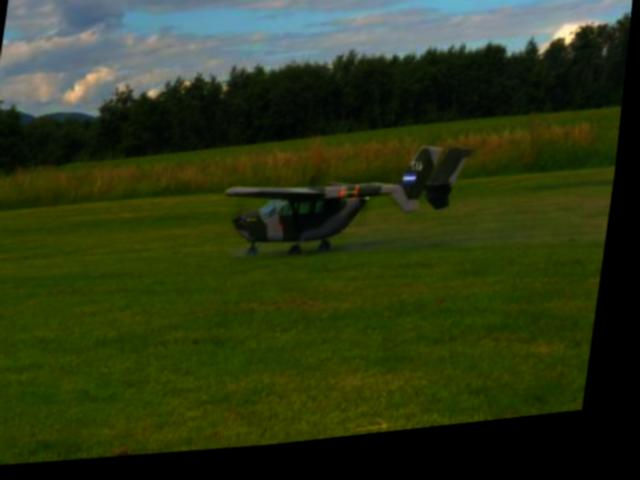uav: (217, 137, 480, 275)
